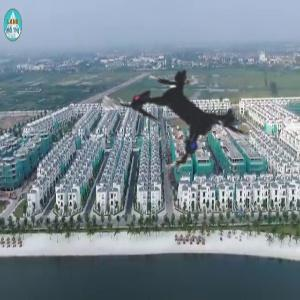drone: (69, 4, 292, 227)
